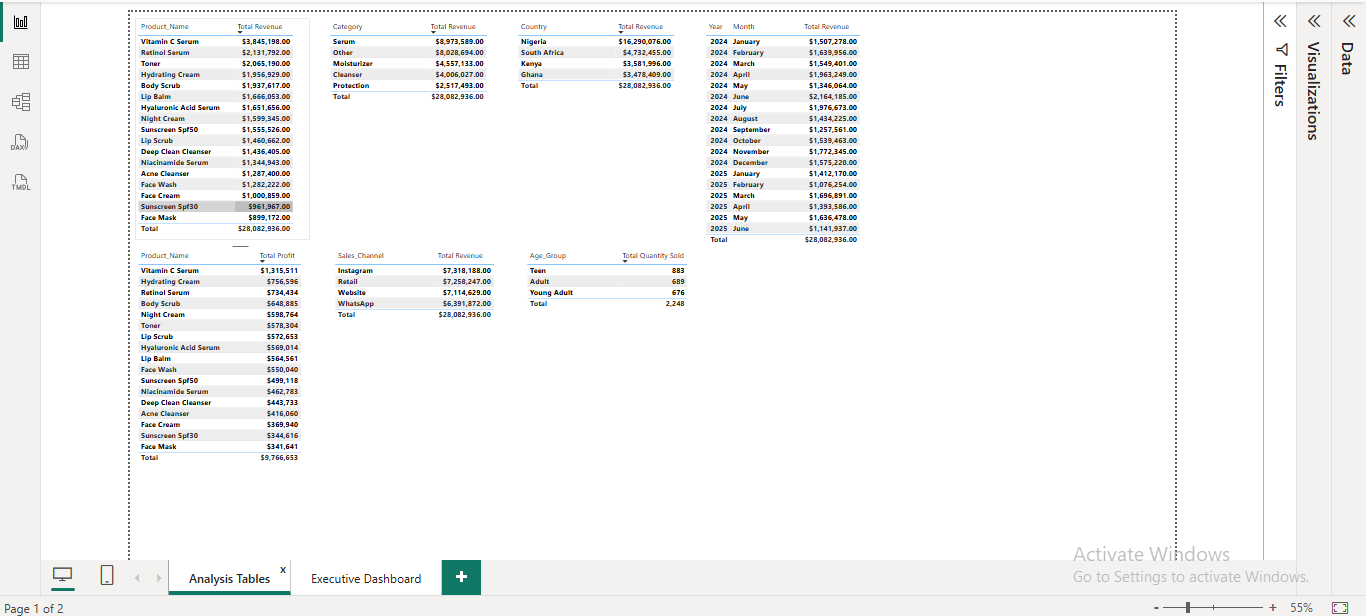

The page's visual inventory and layout, read from the dashboard file:
{"tool":"powerbi","page":{"name":"Analysis Tables","canvas":[1900,1000],"ordinal":0},"visuals":[{"type":"tableEx","fields":{"Values":["Clean_Skincare_Data.Product_Name","Clean_Skincare_Data.Total Revenue"]},"box":[9,10.8,318.6,403.2],"z":0},{"type":"tableEx","fields":{"Values":["Clean_Skincare_Data.Product_Name","Clean_Skincare_Data.Total Profit"]},"box":[9,426.6,318.6,397.8],"z":1000},{"type":"tableEx","fields":{"Values":["Clean_Skincare_Data.Category","Clean_Skincare_Data.Total Revenue"]},"box":[358.8,10.8,309.6,403.2],"z":2000},{"type":"tableEx","fields":{"Values":["Clean_Skincare_Data.Sales_Channel","Clean_Skincare_Data.Total Revenue"]},"box":[367.2,426.6,309.6,397.8],"z":3000},{"type":"tableEx","fields":{"Values":["Clean_Skincare_Data.Country","Clean_Skincare_Data.Total Revenue"]},"box":[699.6,10.8,311.4,403.2],"z":4000},{"type":"tableEx","fields":{"Values":["Clean_Skincare_Data.Age_Group","Clean_Skincare_Data.Total Quantity Sold"]},"box":[716.4,426.6,311.4,397.8],"z":5000},{"type":"tableEx","fields":{"Values":["Clean_Skincare_Data.Order_Date.Variation.Date Hierarchy.Year","Clean_Skincare_Data.Order_Date.Variation.Date Hierarchy.Month","Clean_Skincare_Data.Total Revenue"]},"box":[1042.2,10.8,298.8,439.2],"z":6000}]}

Visuals, with their boxes on the page's 1900x1000 design canvas (x1, y1, x2, y2). These are canvas units, not pixel positions in the 1366x616 screenshot, which may show the page scaled, cropped or inside an application window:
tableEx - Clean_Skincare_Data.Product_Name x Clean_Skincare_Data.Total Revenue: left=9, top=11, right=328, bottom=414
tableEx - Clean_Skincare_Data.Product_Name x Clean_Skincare_Data.Total Profit: left=9, top=427, right=328, bottom=824
tableEx - Clean_Skincare_Data.Category x Clean_Skincare_Data.Total Revenue: left=359, top=11, right=668, bottom=414
tableEx - Clean_Skincare_Data.Sales_Channel x Clean_Skincare_Data.Total Revenue: left=367, top=427, right=677, bottom=824
tableEx - Clean_Skincare_Data.Country x Clean_Skincare_Data.Total Revenue: left=700, top=11, right=1011, bottom=414
tableEx - Clean_Skincare_Data.Age_Group x Clean_Skincare_Data.Total Quantity Sold: left=716, top=427, right=1028, bottom=824
tableEx - Clean_Skincare_Data.Order_Date.Variation.Date Hierarchy.Year x Clean_Skincare_Data.Order_Date.Variation.Date Hierarchy.Month: left=1042, top=11, right=1341, bottom=450
